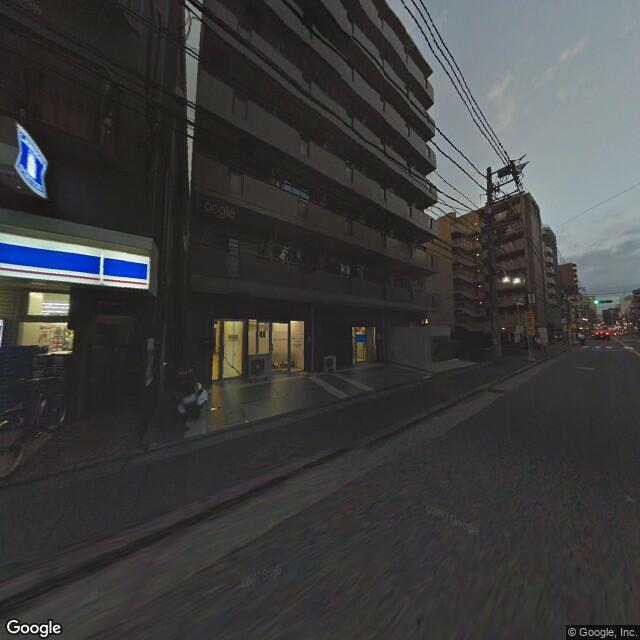lawson: (2, 228, 151, 296), (11, 121, 52, 200)
